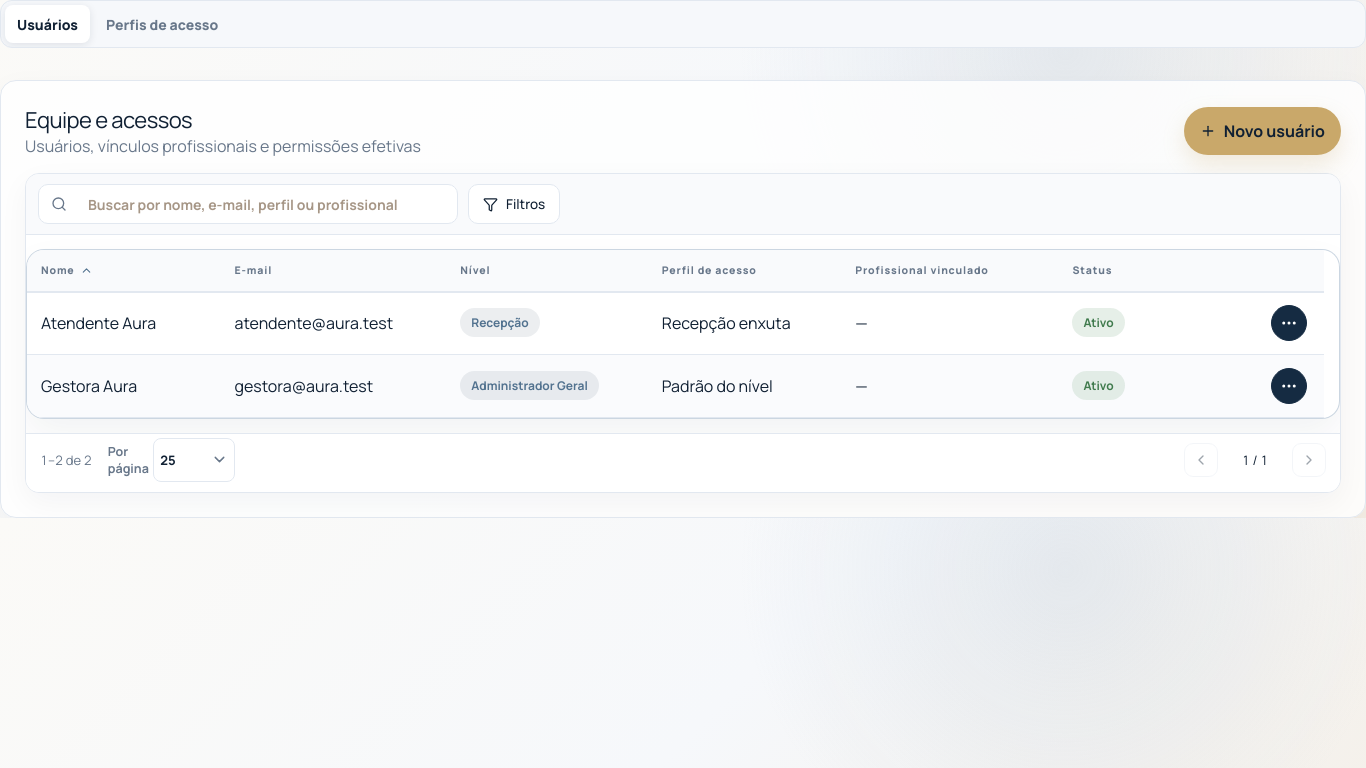
Test: gestão de acessos › oferece usuários, perfis, vínculo profissional e catálogo legível
Expected: the text "Gestora Aura" is shown, [41,375,137,397]
Click the tab "Perfis de acesso" at (162, 24), box [94,5,230,43]
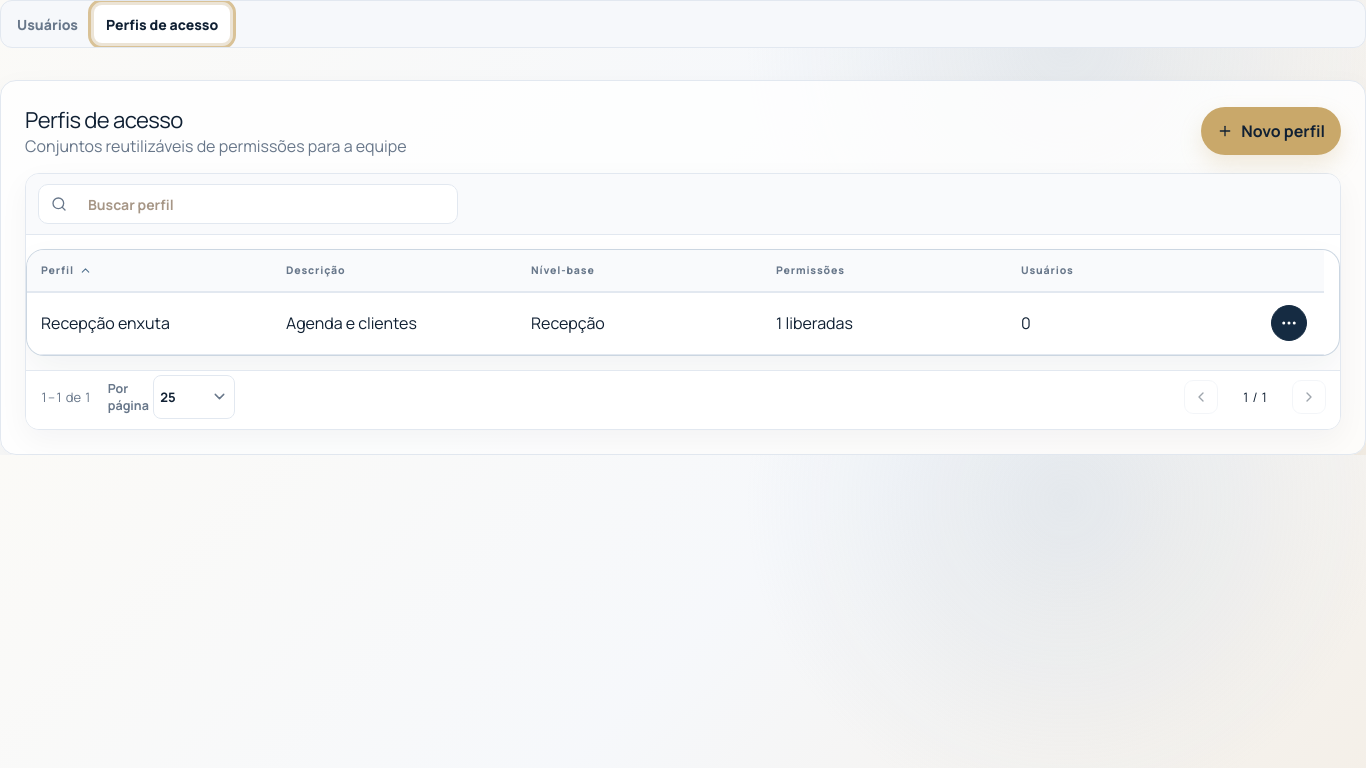
Expected: the text "Recepção enxuta" is shown, [41,312,170,334]
Click the button "Novo perfil" at (1271, 131), box [1201,107,1341,155]
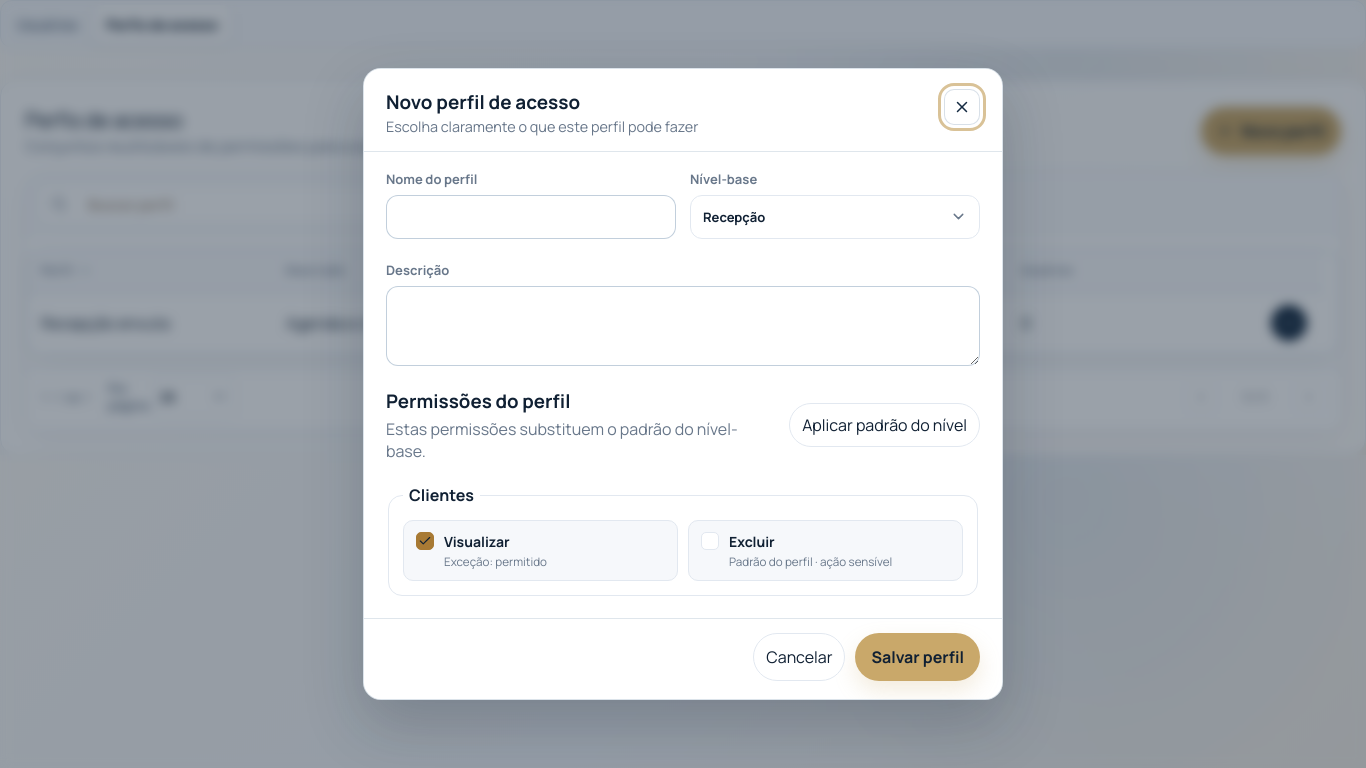
Expected: the heading "Permissões do perfil" is shown, [386,388,570,414]
Click the button "Cancelar" at (799, 657), box [753,633,846,681]
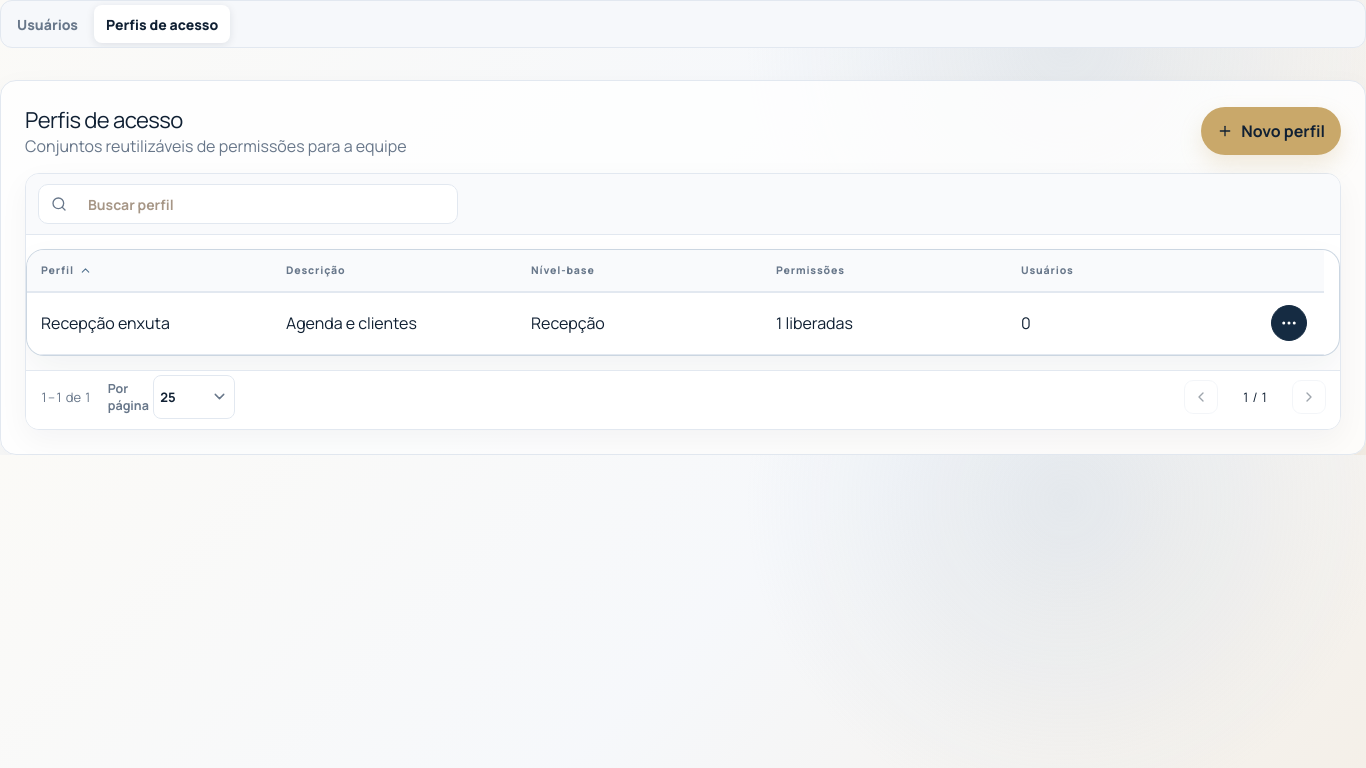
Click the tab "Usuários" at (48, 24), box [5,5,90,43]
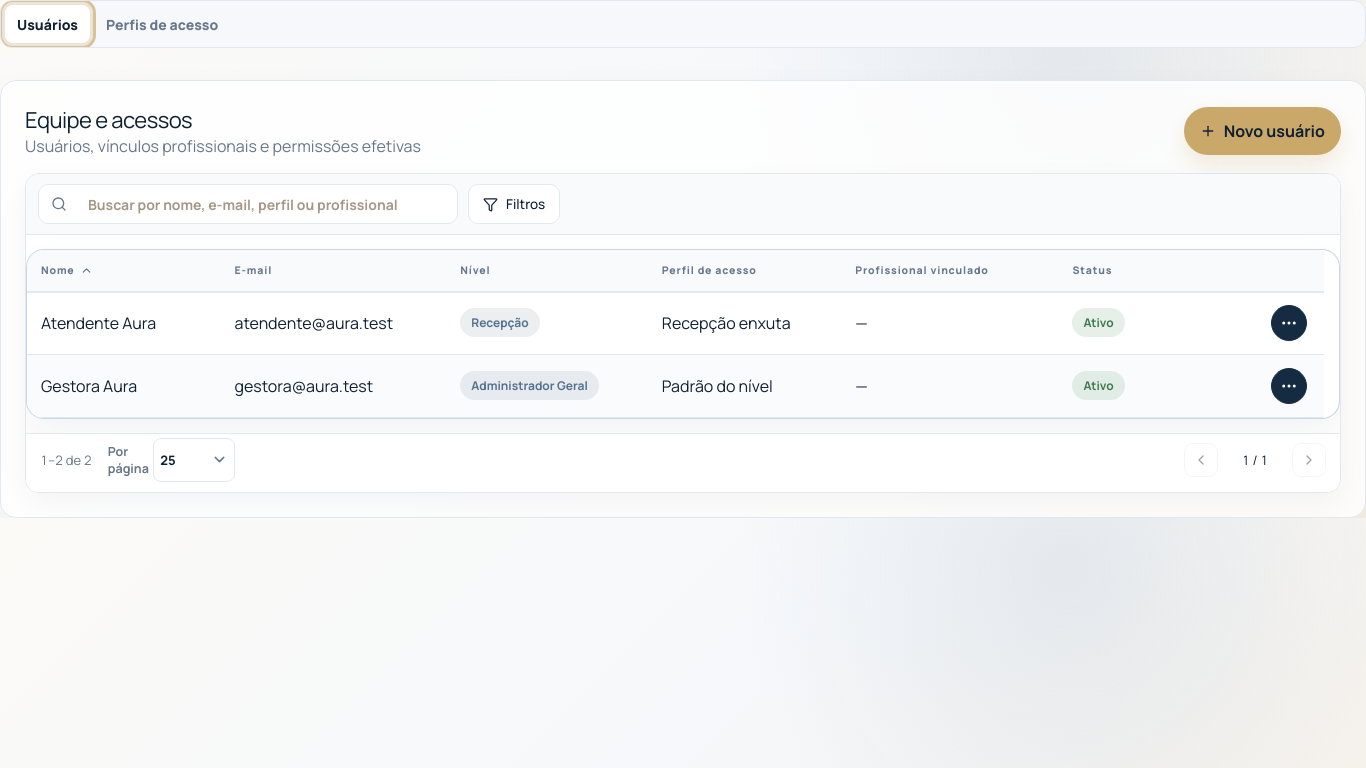
Click the button "Novo usuário" at (1262, 131), box [1184,107,1341,155]
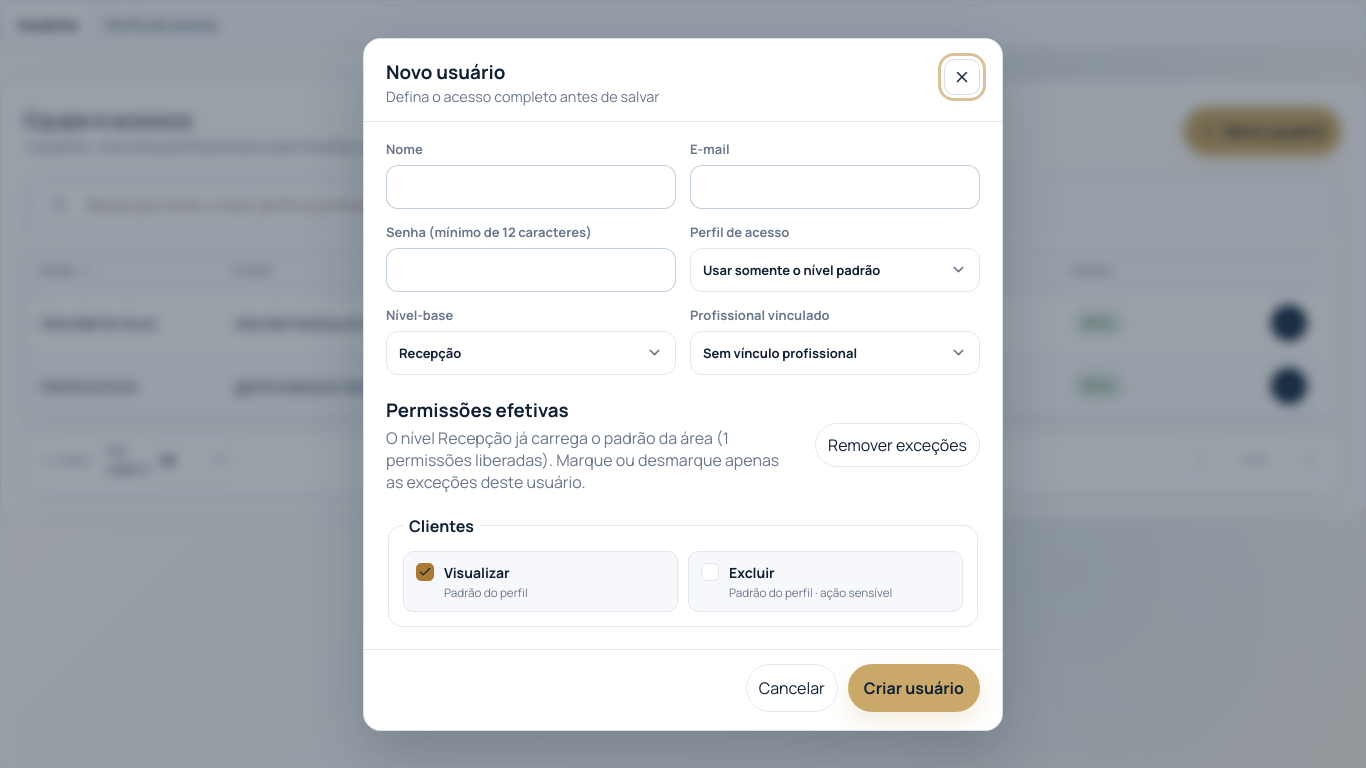
Expected: the button "Profissional vinculado" is shown, [855,263,1007,278]
Expected: the text "Visualizar" is shown, [444,562,510,582]
Expected: the text "Padrão do perfil · ação sensível" is shown, [729,584,892,600]
